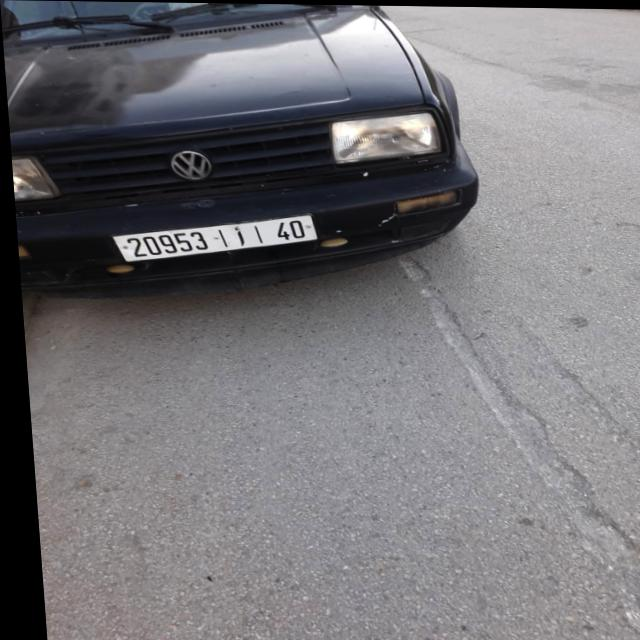License-Plate: (110, 213, 314, 261)
